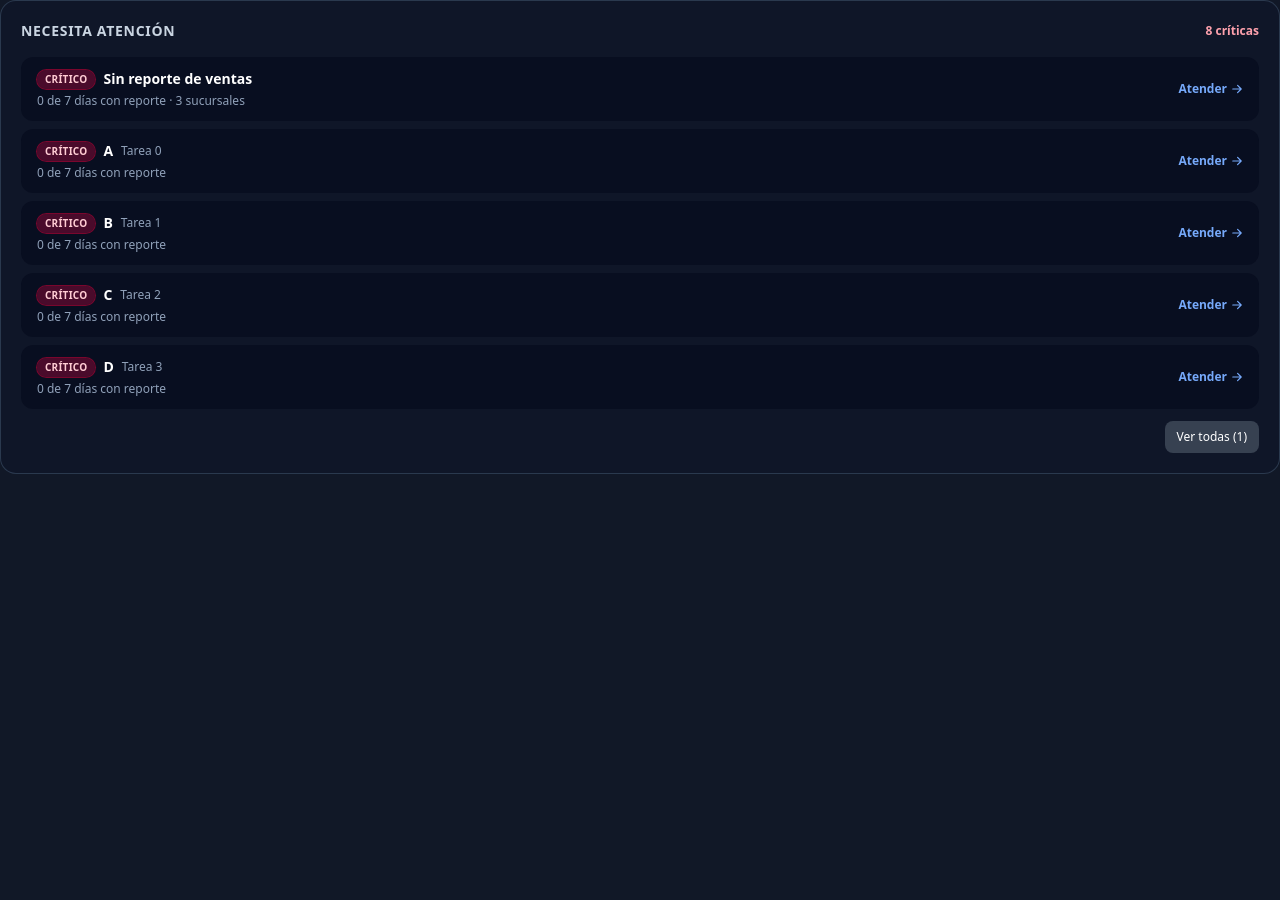
Scenario: AttentionQueue › expands a grouped row to per-branch rows in the drawer
Expected: the text "Norte" is not shown
Click the button "Ver todas (1)": point(1212, 437) [1164, 421, 1259, 453]
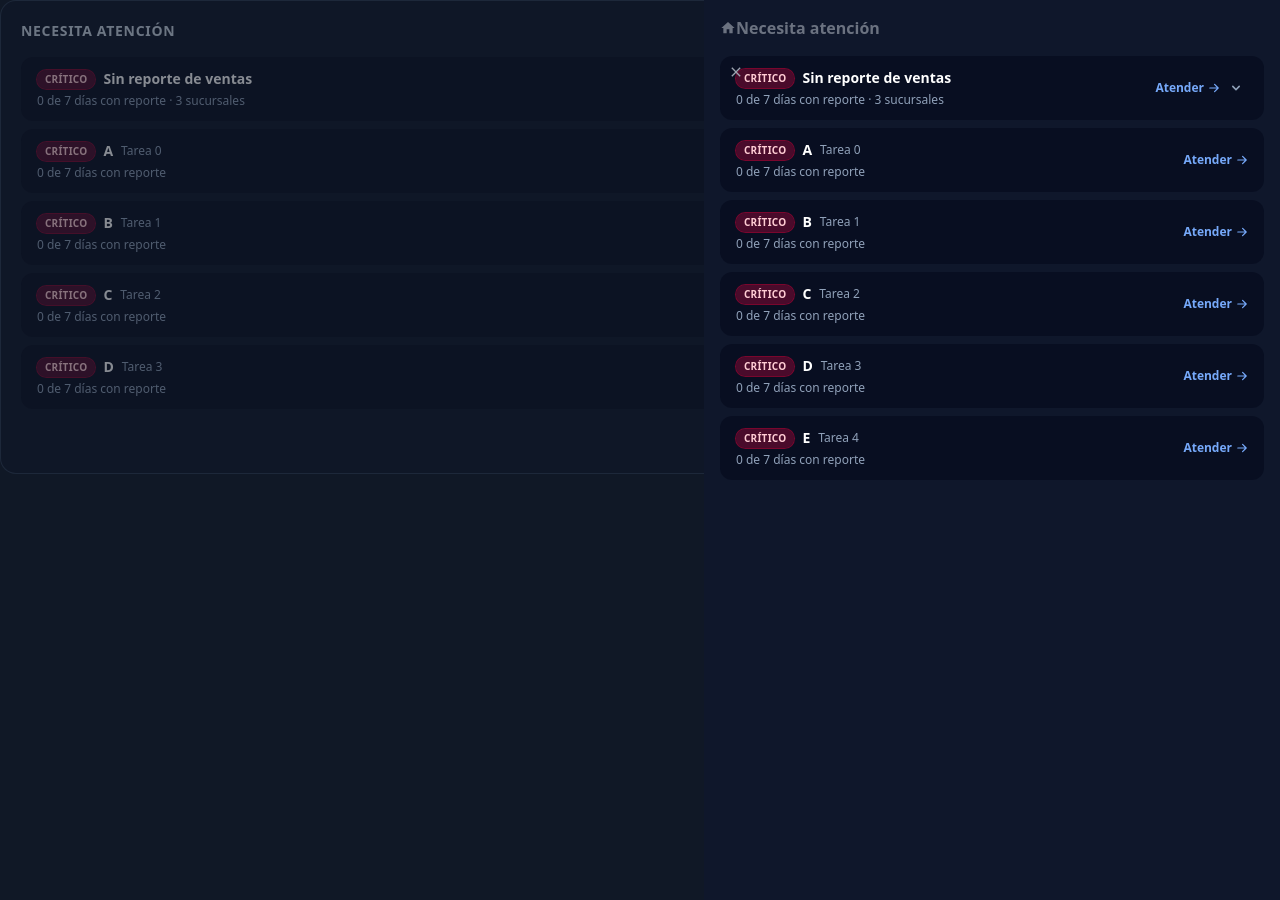
Click the button named "Ver 3 sucursales": point(1236, 88) [1224, 76, 1248, 100]
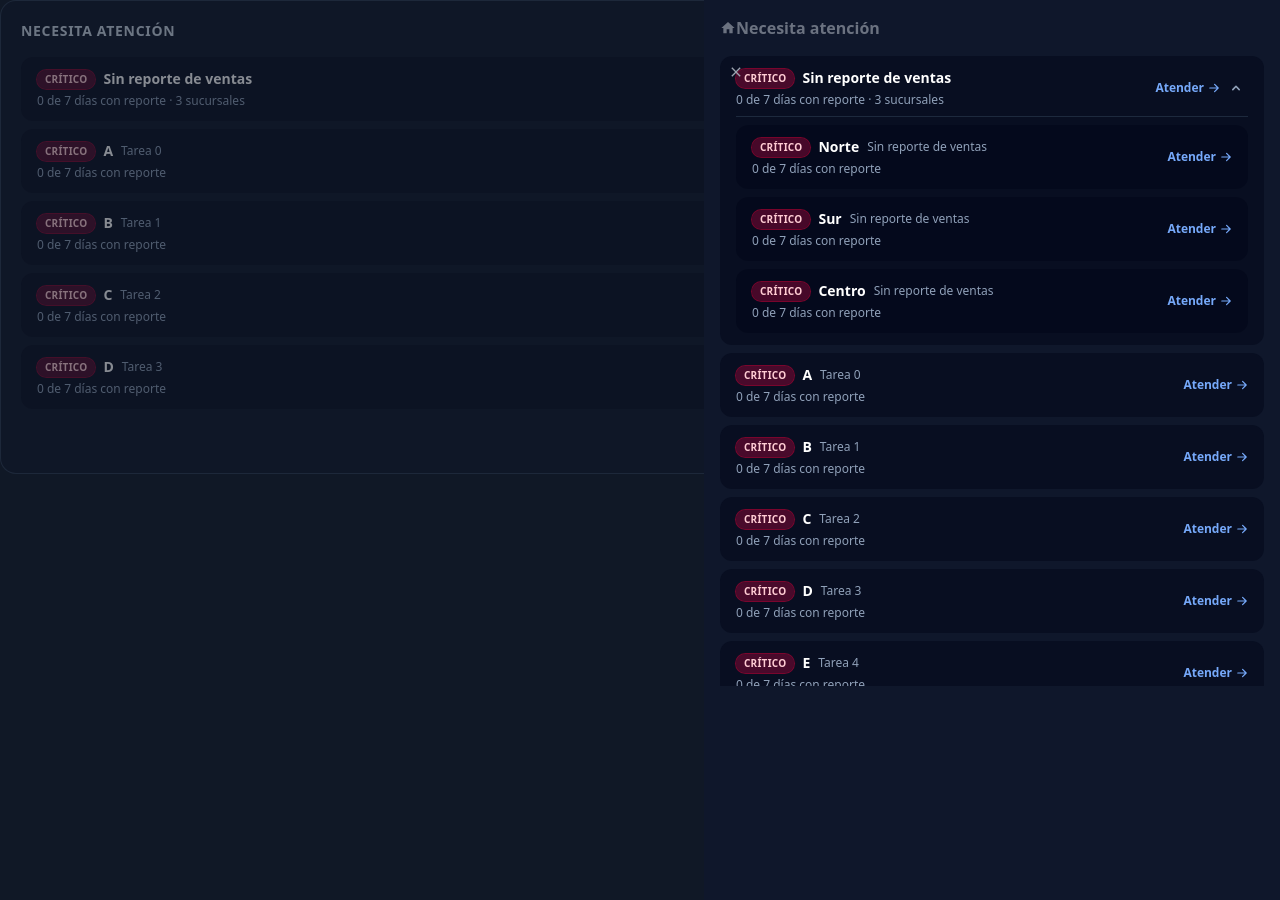
Expected: the 2nd link "Atender" is shown, [1178, 81, 1243, 97]
Now the text "E" is shown, box [802, 653, 810, 673]
Now the text "Norte" is shown, box [818, 137, 859, 157]
